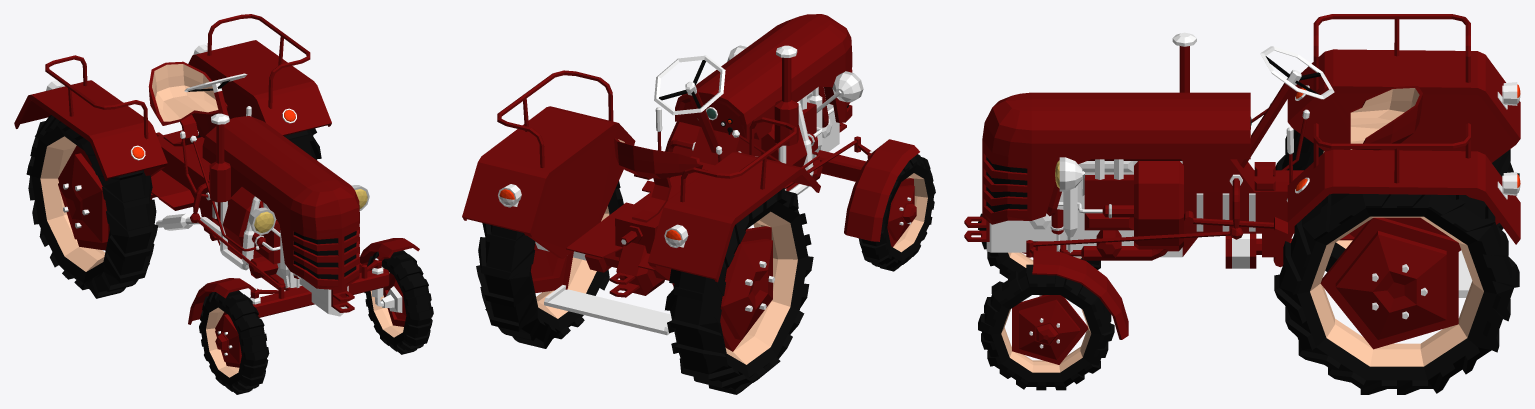
File: Tractor_01.FBX
3 views of the same model, side by side, from view 1: azimuth 30°, elevation 25°; view 2: azimuth 150°, elevation 25°; view 3: azimuth 270°, elevation 25° (orthographic). The views are drawn at different scales.
Visible parts, largest first — view 1: Tractor_01, wheel_b_r, wheel_f_r, wheel_f_l, seat, motor, exhaust, mudguard_r, lights, mudguard_l, steering_l-02, steeringWheel (+4 smaller); view 2: Tractor_01, wheel_b_r, wheel_b_l, wheel_f_r, mudguard_r, seat, footboard, motor, exhaust, steeringWheel, lights, mudguard_l; view 3: Tractor_01, wheel_b_l, wheel_f_l, motor, seat, mudguard_l, steeringWheel, lights, wheel_b_r, filter, wheel_f_r, steering-l_lookAt (+4 smaller).
Part boxes in pixels (box(x1,y1,x2,y2)): Tractor_01: box(14, 14, 389, 317); wheel_b_r: box(26, 115, 158, 298); wheel_f_r: box(199, 290, 269, 394); wheel_f_l: box(364, 250, 433, 354); seat: box(148, 61, 227, 146); motor: box(222, 179, 304, 290); exhaust: box(156, 113, 260, 270); mudguard_r: box(188, 278, 256, 324); lights: box(46, 44, 369, 236); mudguard_l: box(359, 238, 419, 272); steering_l-02: box(367, 258, 402, 312); steeringWheel: box(184, 73, 247, 115); Tractor_01: box(462, 14, 866, 297); wheel_b_r: box(665, 188, 813, 394); wheel_b_l: box(476, 181, 623, 348); wheel_f_r: box(858, 154, 935, 271); mudguard_r: box(844, 139, 919, 241); seat: box(614, 138, 702, 222); footboard: box(544, 285, 671, 335); motor: box(754, 86, 833, 191); exhaust: box(774, 45, 813, 195); steeringWheel: box(654, 55, 725, 153); lights: box(498, 45, 863, 247); mudguard_l: box(665, 121, 699, 178); Tractor_01: box(964, 14, 1520, 295); wheel_b_l: box(1274, 193, 1519, 394); wheel_f_l: box(978, 264, 1114, 390); motor: box(1029, 159, 1222, 260); seat: box(1350, 86, 1422, 150); mudguard_l: box(1032, 250, 1128, 339); steeringWheel: box(1237, 46, 1334, 167); lights: box(1059, 82, 1517, 199); wheel_b_r: box(1275, 129, 1519, 271); filter: box(1225, 233, 1292, 268); wheel_f_r: box(978, 213, 1100, 278); steering-l_lookAt: box(1033, 231, 1230, 246).
Bounding box in the file's own units: 21.59 × 20.81 × 37.02.
